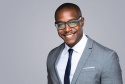male: (52, 6, 86, 48)
